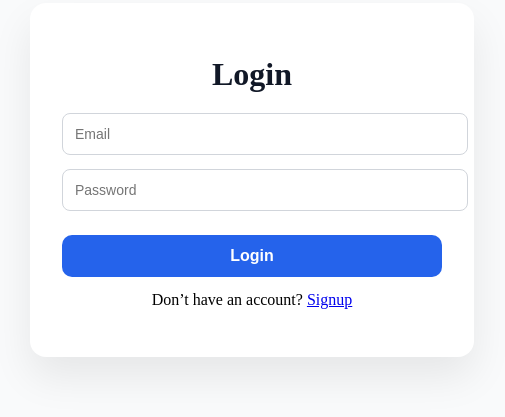
Login Component › shows validation error for invalid email format
Type "invalid-email" into the field with placeholder "Email" at (265, 134), box x1=62 y1=113 x2=468 y2=155
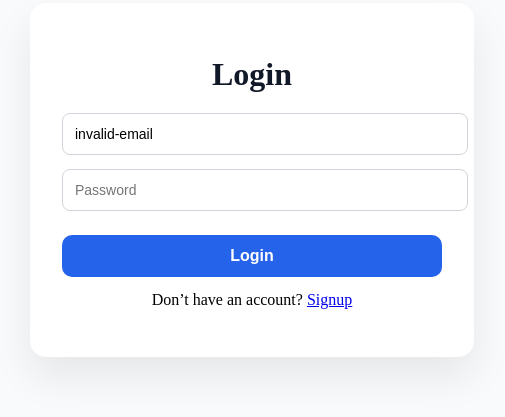
Type "password123" into the password field with placeholder "Password" at (265, 190), box x1=62 y1=169 x2=468 y2=211
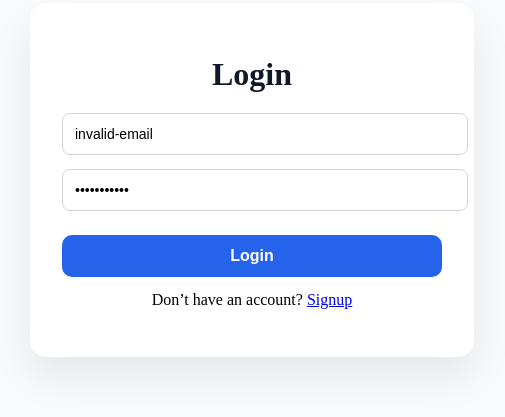
Click the button "Login" at (252, 256), box x1=62 y1=235 x2=442 y2=277
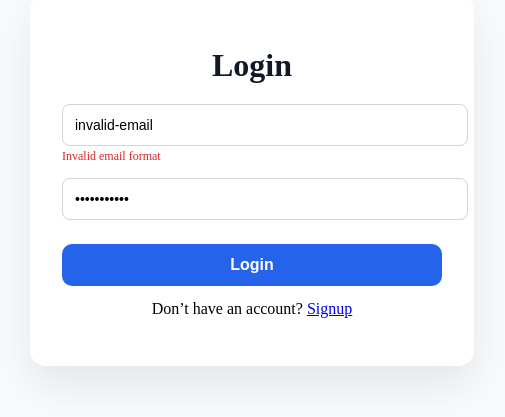
Result: the text "Invalid email format" is shown at x1=62 y1=149 x2=161 y2=163
